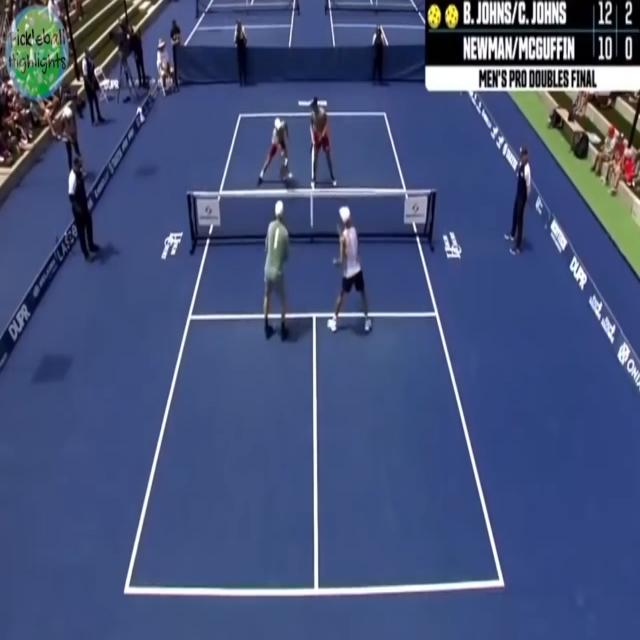Court: (128, 116, 503, 592)
